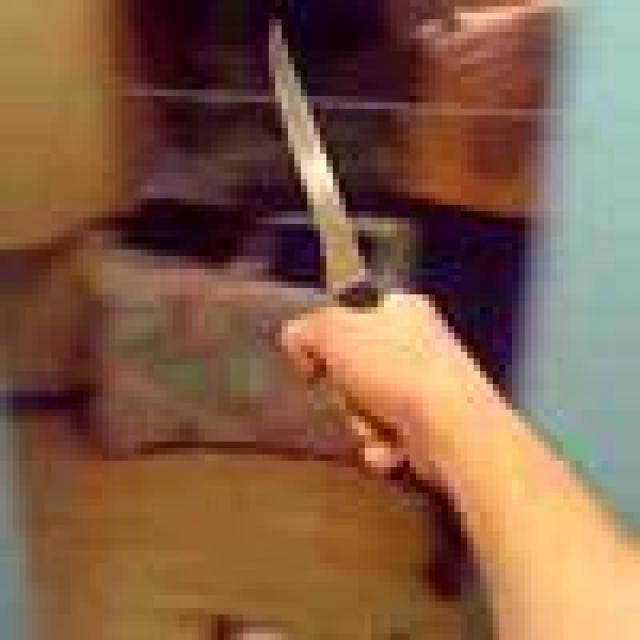knife: (266, 16, 378, 306)
